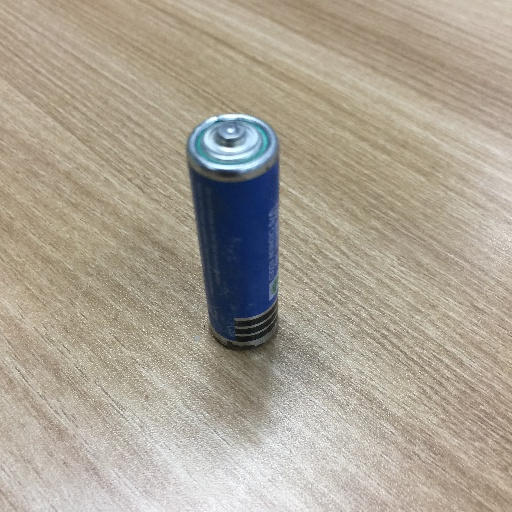Battery_0: (171, 93, 303, 372)
